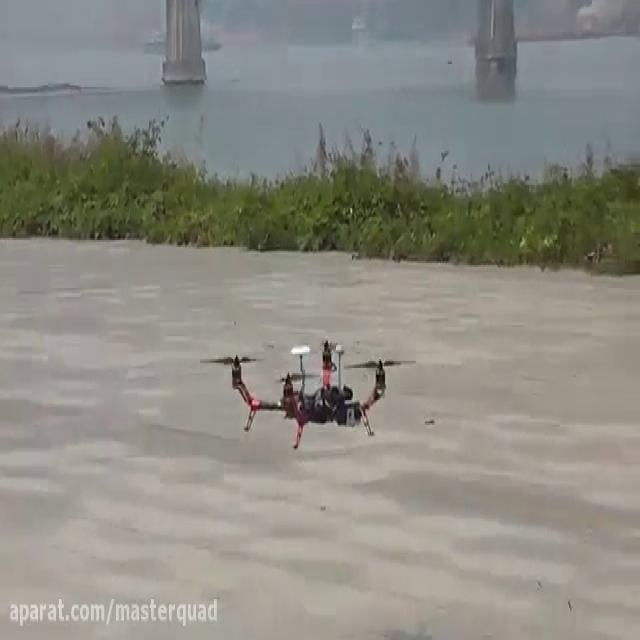drone: (197, 334, 420, 457)
